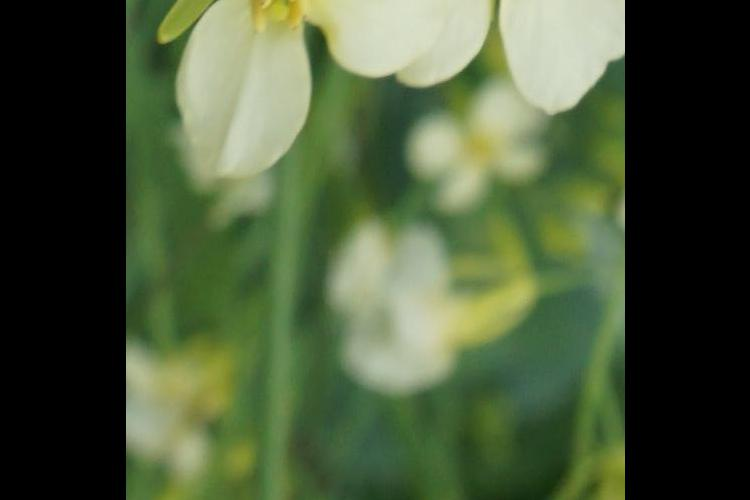white: (194, 1, 448, 167), (409, 1, 618, 109), (335, 213, 465, 371), (415, 94, 542, 204)
